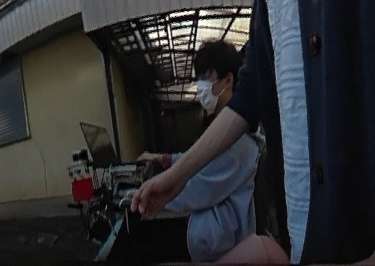person: (130, 38, 253, 266)
